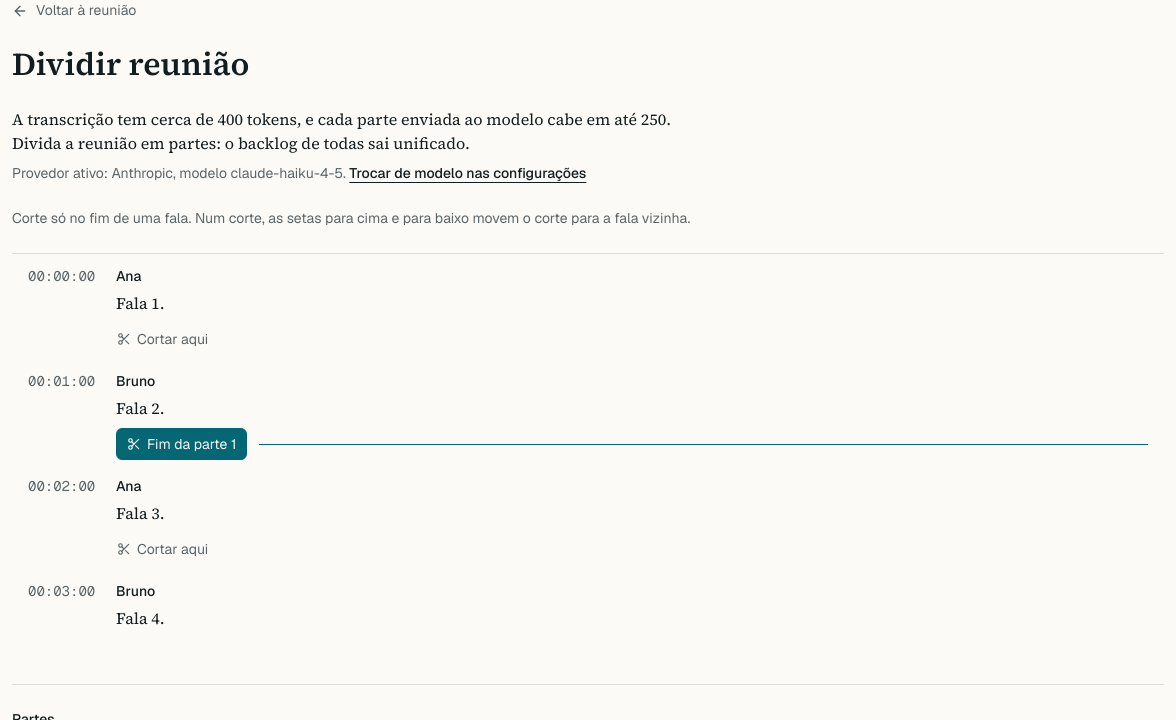
it: remover um corte junta as Partes e desabilita confirmar (33, 35)
Click the button "Fim da parte 1". click: [182, 444]
box: [116, 428, 247, 460]
(page scrolled)
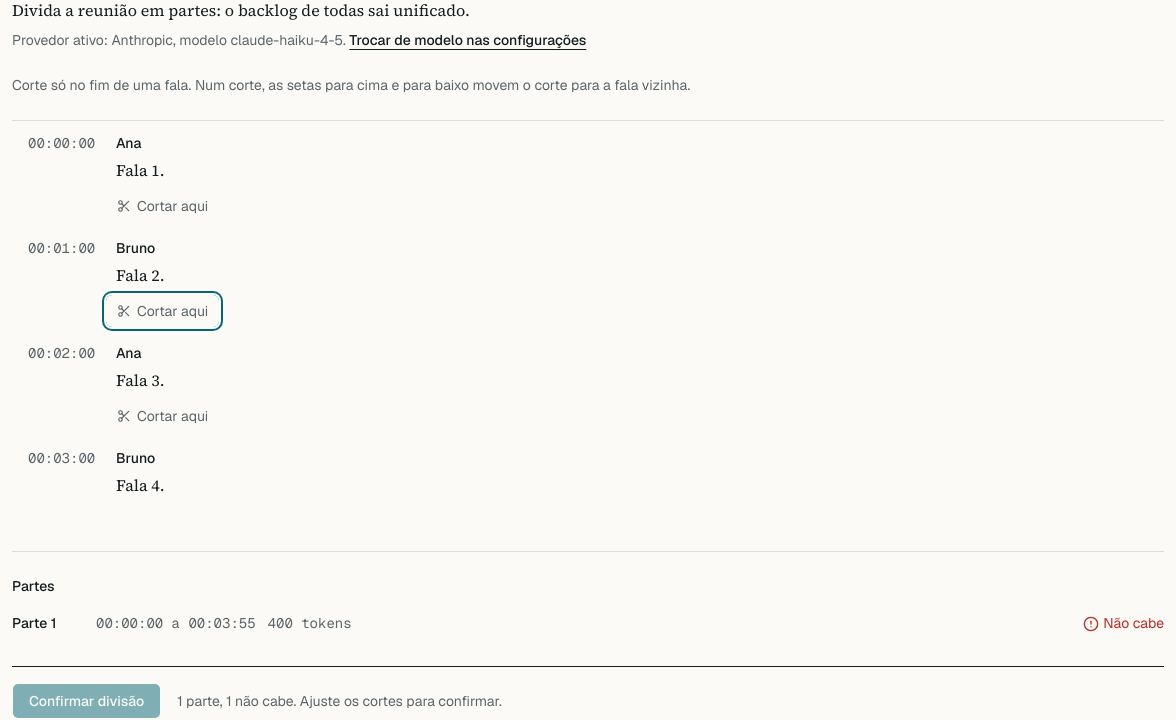
Expected: the text "400 tokens" is shown, [268, 613, 352, 634]
Expected: the text "Não cabe" is shown, [1083, 613, 1164, 634]
Expected: the button "Confirmar divisão" is disabled, [12, 683, 161, 719]
